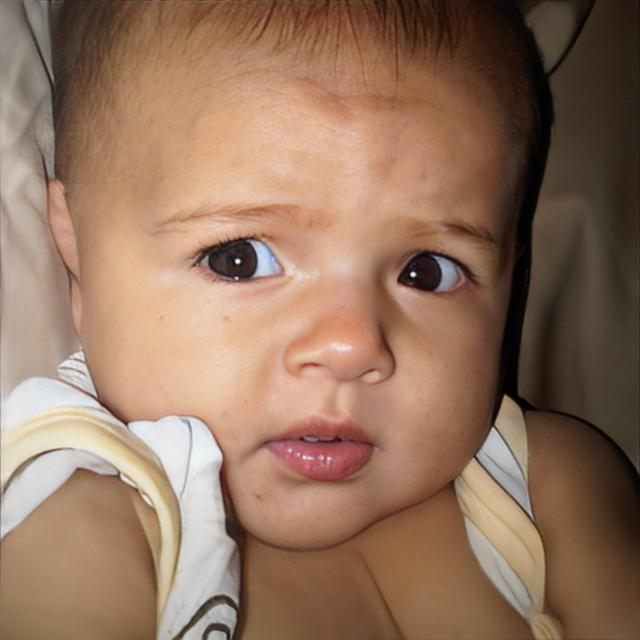fear: (54, 0, 542, 551)
